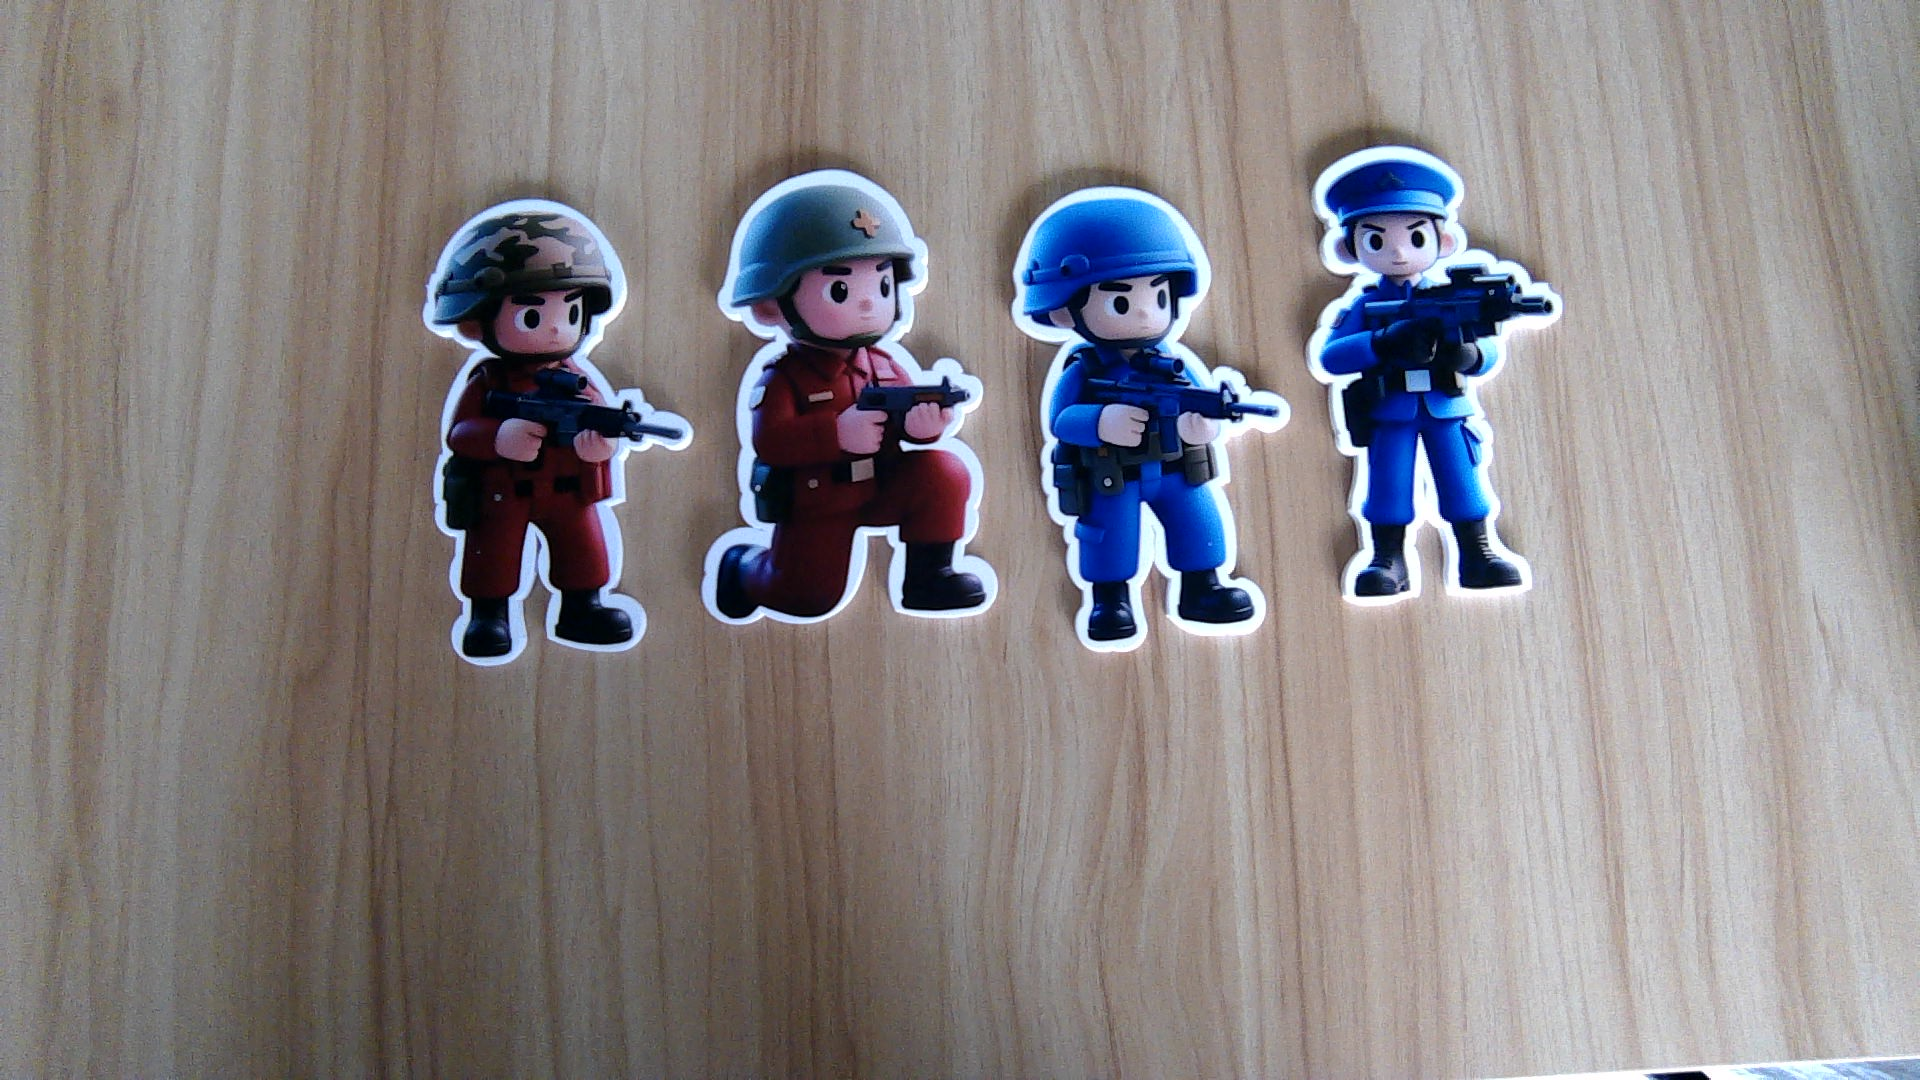敌人1: (695, 348, 998, 633), (429, 360, 683, 669)
敌人2: (1295, 273, 1559, 603), (1031, 345, 1288, 647)
